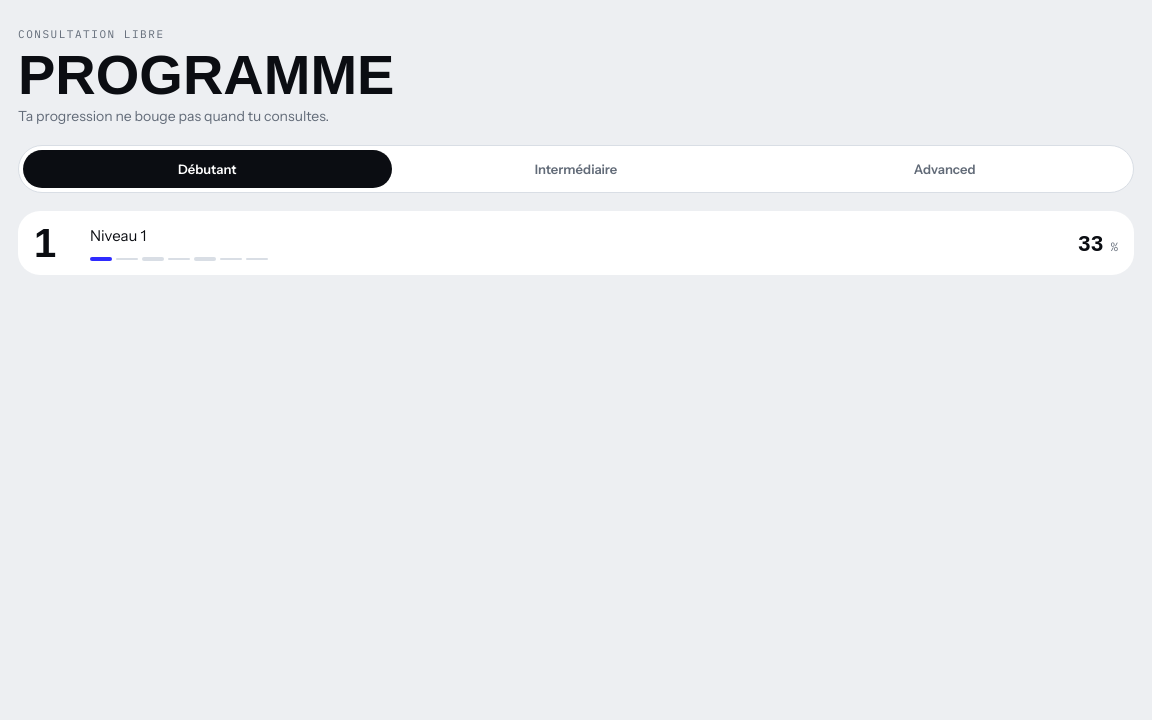
Scenario: ProgrammeScreen › clicking a day opens the fiche jour sheet
Click the text "Niveau 1". click: [118, 236]
box: [90,226,146,245]
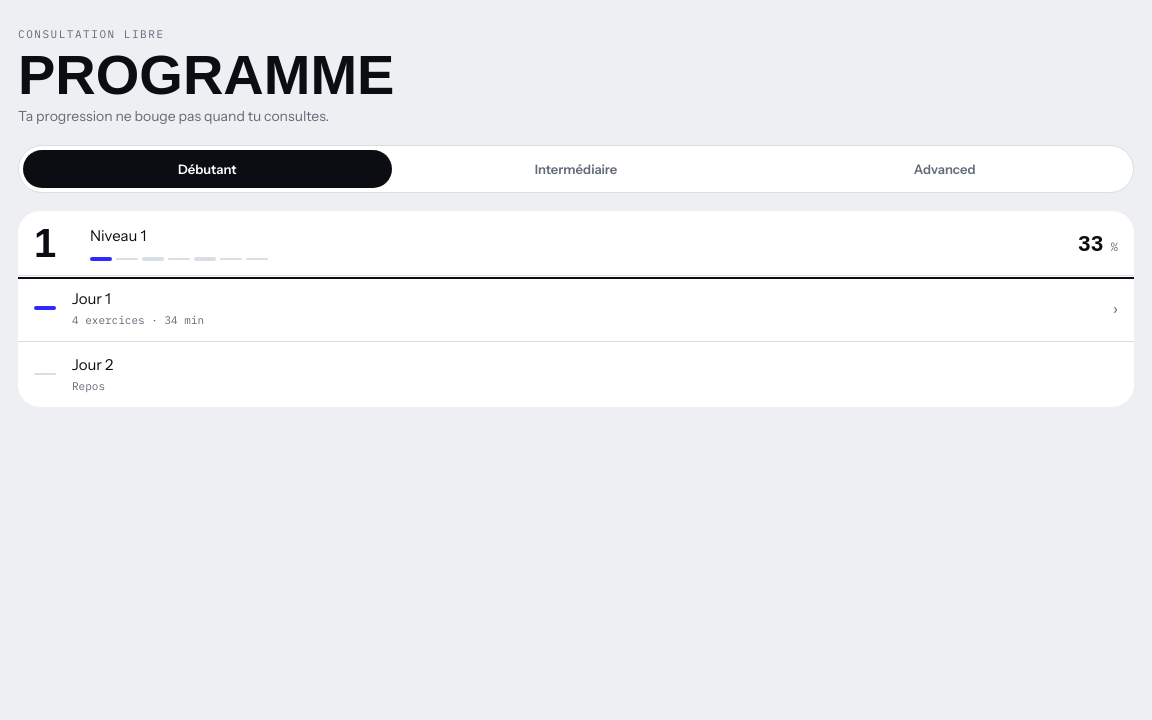
Click the text "Jour 1". click: [91, 298]
box: [72,289,111,308]
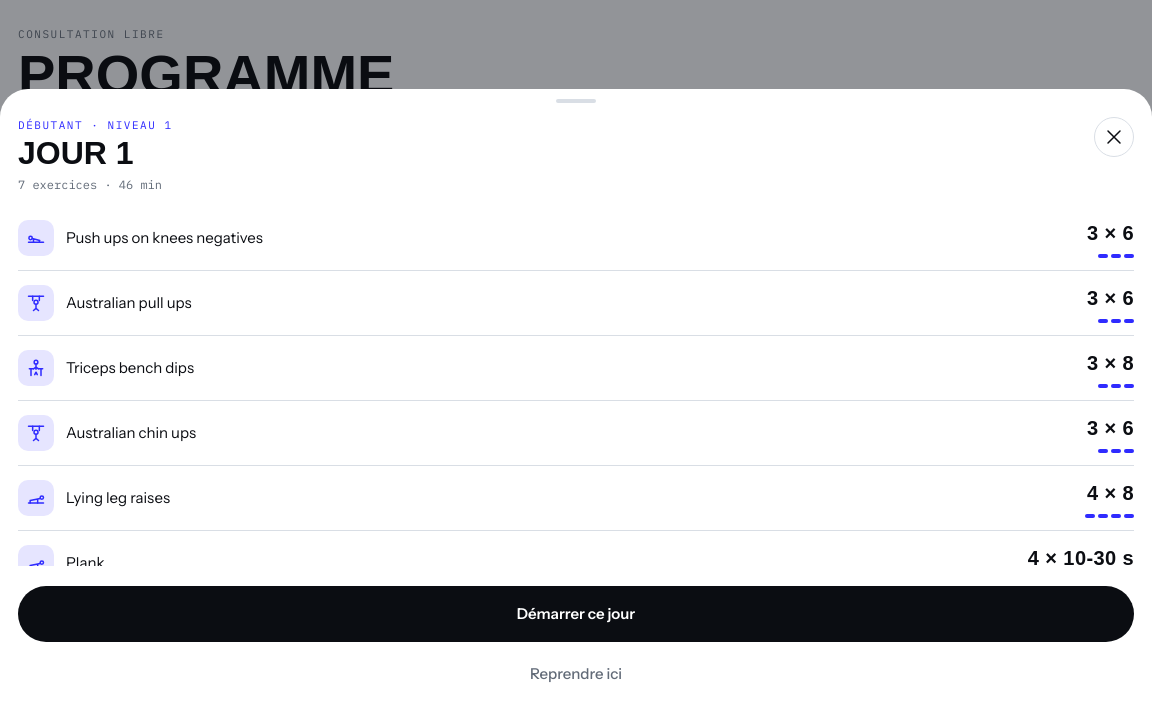
Expected: the text "Démarrer ce jour" is shown, [517,603,635,625]
